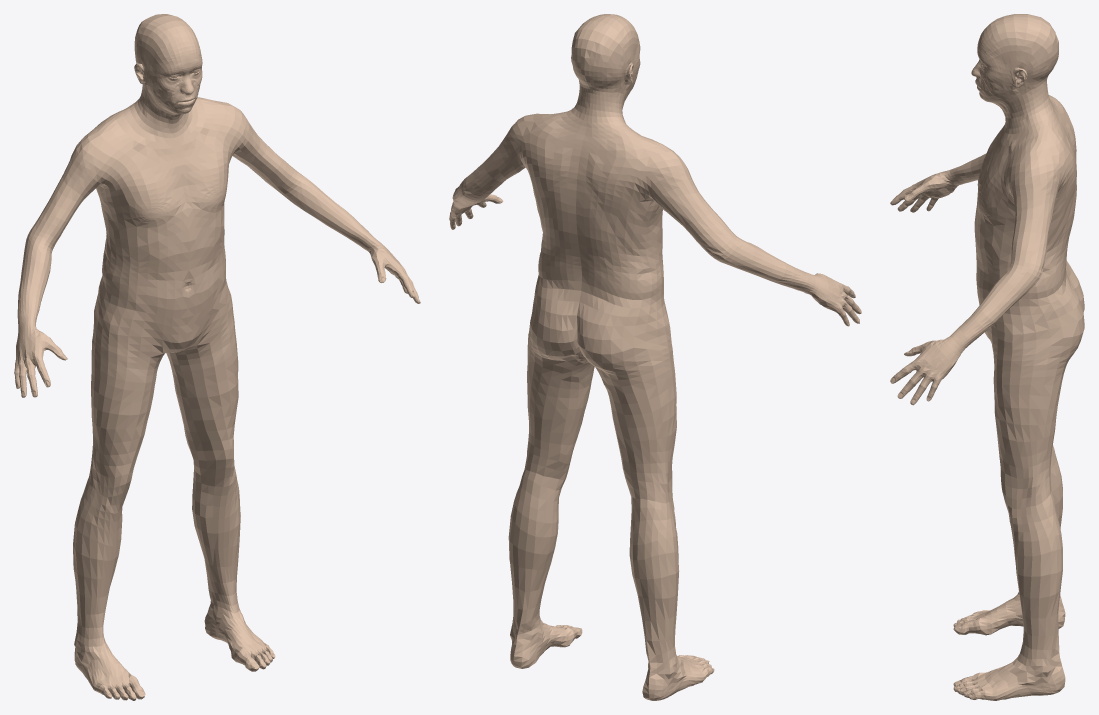
File: male-mature-average-low.glb
3 renders of one model, left to right at view 1: azimuth 30°, elevation 25°; view 2: azimuth 150°, elevation 25°; view 3: azimuth 270°, elevation 25°, orthographic.
Visible parts, largest first — view 1: world; view 2: world; view 3: world.
Part boxes in pixels (x1,y1,x2,y2): world: (14,14,420,700); world: (449,14,861,700); world: (890,14,1084,700).
Bounding box in the file's own units: 1.25 × 1.94 × 0.5304.
